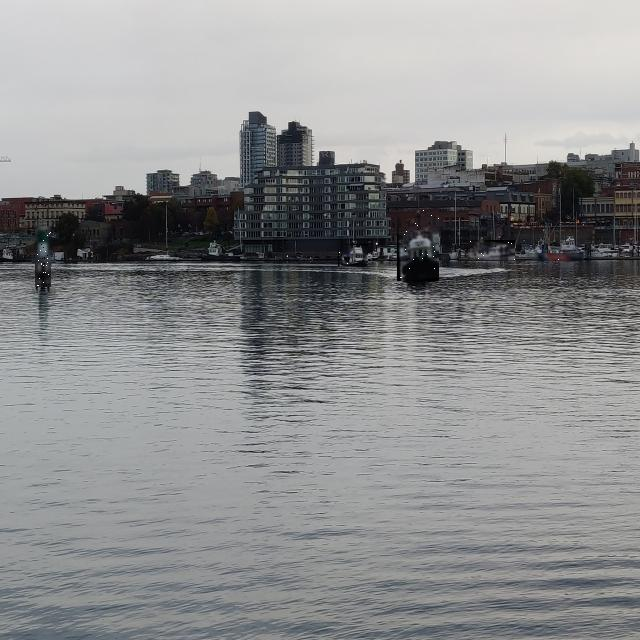boat: (397, 209, 439, 281), (468, 240, 515, 260), (338, 244, 368, 266)
mark: (35, 226, 51, 287)
skiff: (534, 253, 582, 261)
